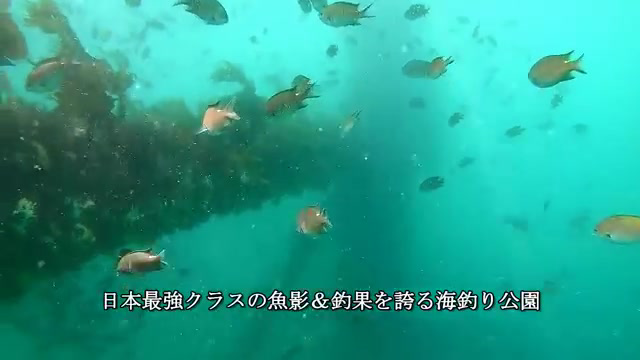smallfish: (111, 241, 176, 285), (523, 48, 586, 93), (255, 78, 316, 123), (582, 200, 640, 242), (316, 1, 375, 39), (170, 1, 241, 32), (197, 99, 242, 145), (295, 201, 342, 244), (423, 51, 462, 84)
